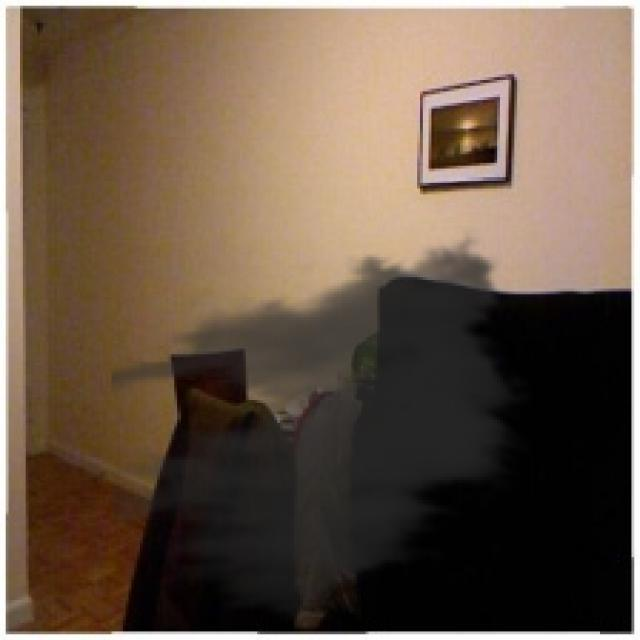Smoke: (112, 226, 537, 632)
